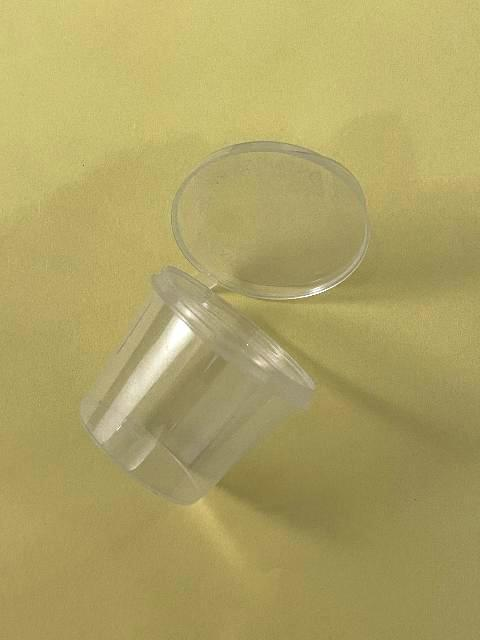plasticcontainer: (77, 138, 373, 508)
